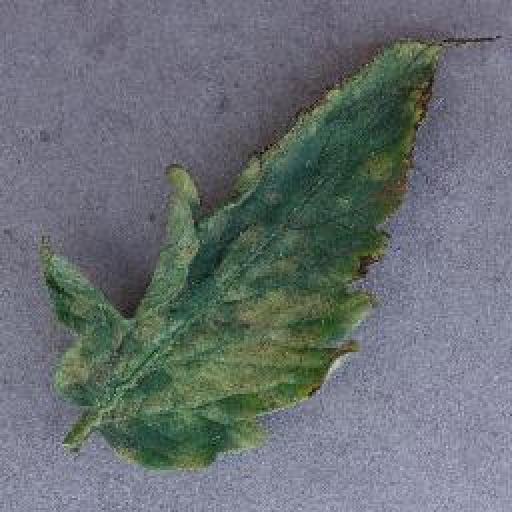Leaf Mold: (43, 36, 439, 469)
